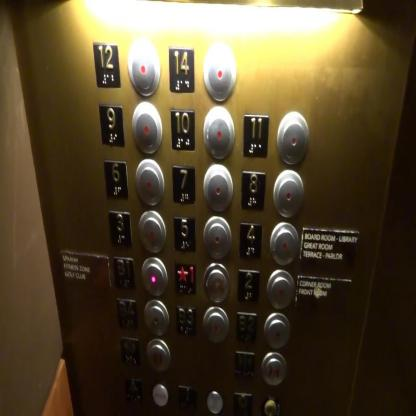1: (174, 260, 196, 296)
10: (170, 108, 195, 152)
11: (243, 113, 269, 158)
12: (93, 41, 121, 88)
14: (168, 46, 195, 93)
2: (237, 268, 260, 302)
3: (108, 209, 133, 247)
4: (239, 221, 262, 260)
5: (173, 216, 196, 253)
6: (104, 159, 128, 200)
7: (172, 163, 196, 204)
8: (241, 169, 265, 211)
9: (98, 102, 125, 147)
B1: (113, 255, 136, 289)
B2: (236, 311, 256, 342)
B3: (176, 304, 197, 336)
B4: (116, 296, 138, 329)
alarm: (124, 377, 142, 404)
blur: (203, 260, 230, 304), (178, 385, 197, 415)
close: (260, 351, 288, 386), (234, 350, 255, 379)
empty: (202, 41, 237, 102), (127, 40, 161, 99), (202, 102, 234, 160), (277, 110, 309, 166), (131, 99, 162, 155), (272, 168, 304, 218), (134, 156, 165, 207), (202, 162, 233, 212), (202, 214, 232, 260), (269, 221, 299, 266), (138, 209, 166, 254), (266, 269, 295, 309), (140, 256, 168, 296), (202, 306, 229, 344), (263, 311, 290, 348), (143, 299, 169, 337)
open: (146, 337, 171, 371), (119, 336, 140, 366)
text_blur: (151, 379, 169, 407), (206, 389, 224, 415)
